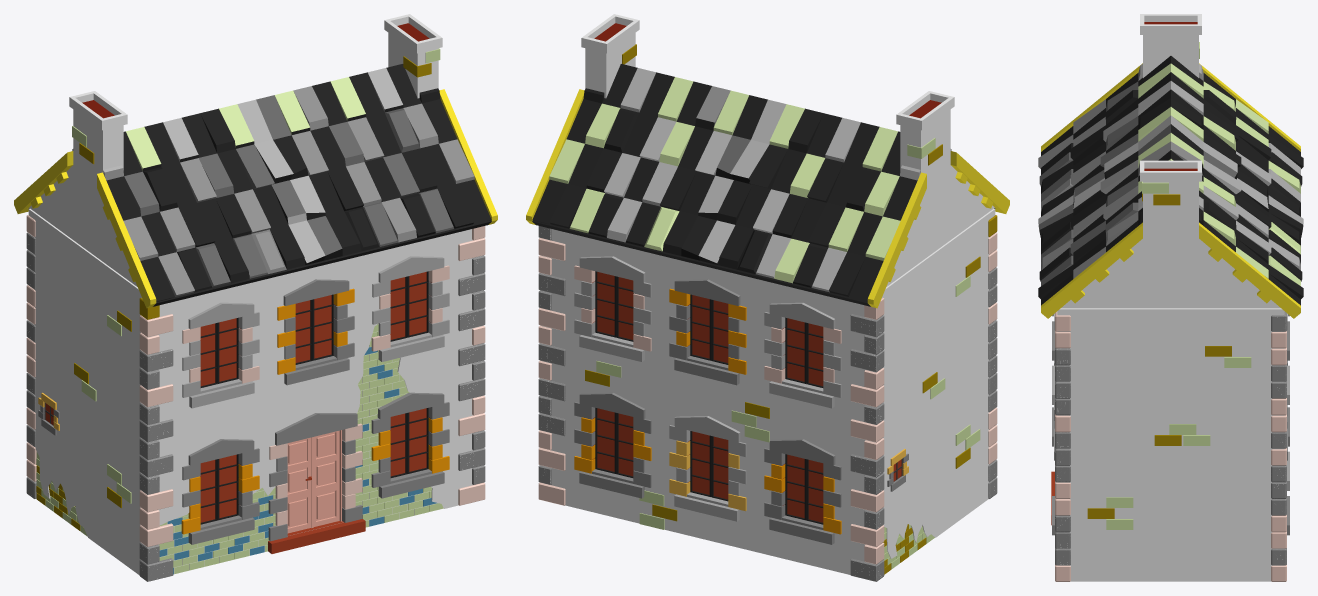
Rendered from House 1.fbx.
3 renders of one model, left to right at view 1: azimuth 30°, elevation 25°; view 2: azimuth 150°, elevation 25°; view 3: azimuth 270°, elevation 25°, orthographic. The views are drawn at different scales.
Visible parts, largest first — view 1: House, Roof, Windows, Bricks, Door; view 2: House, Roof, Windows, Bricks; view 3: House, Roof, Bricks, Windows.
Boxes of the visible parts, x1,y1,x2,y2 form: House: (28, 14, 483, 575); Roof: (14, 64, 497, 308); Windows: (38, 256, 449, 544); Bricks: (26, 48, 485, 581); Door: (268, 413, 362, 541); House: (540, 14, 995, 574); Roof: (526, 64, 1009, 308); Windows: (574, 256, 908, 544); Bricks: (538, 44, 997, 581); House: (1051, 14, 1284, 581); Roof: (1038, 56, 1303, 318); Bricks: (1055, 42, 1286, 581); Windows: (1052, 313, 1289, 535).
Size of the model in its own units: 7.25 by 8.56 by 5.02.
